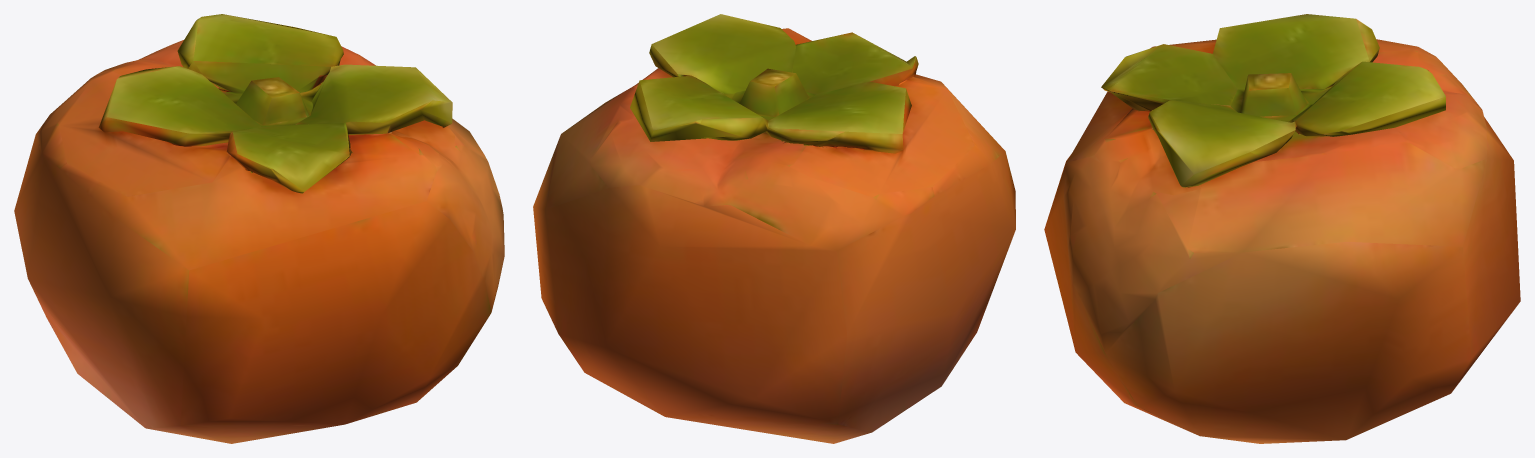
Rendered from persimmon.glb.
3 views of the same model, side by side, from view 1: azimuth 30°, elevation 25°; view 2: azimuth 150°, elevation 25°; view 3: azimuth 270°, elevation 25° (orthographic). The views are drawn at different scales.
Parts seen in each view (by area): view 1: textured_mesh.obj; view 2: textured_mesh.obj; view 3: textured_mesh.obj.
Part boxes in pixels (box(x1,y1,x2,y2)): textured_mesh.obj: box(14, 14, 504, 443); textured_mesh.obj: box(533, 14, 1015, 443); textured_mesh.obj: box(1044, 14, 1520, 443).
Size of what is drawn, in the model's own units: 0.2436 by 0.1973 by 0.2478.
1 material, 1 textured.
